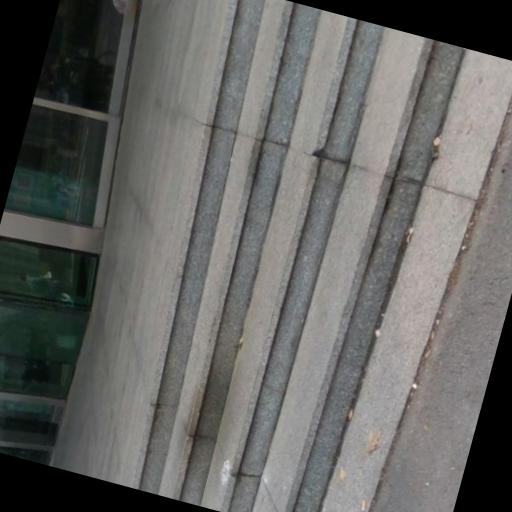stairs: (135, 0, 463, 511)
